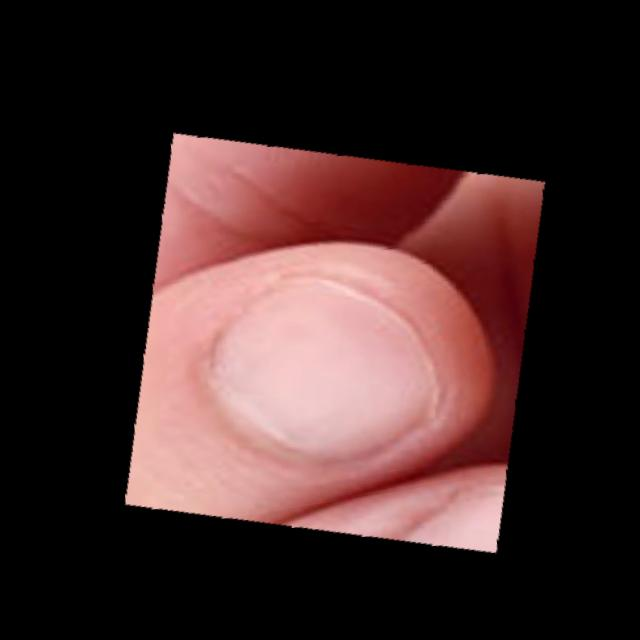Nail: (212, 277, 439, 464)
